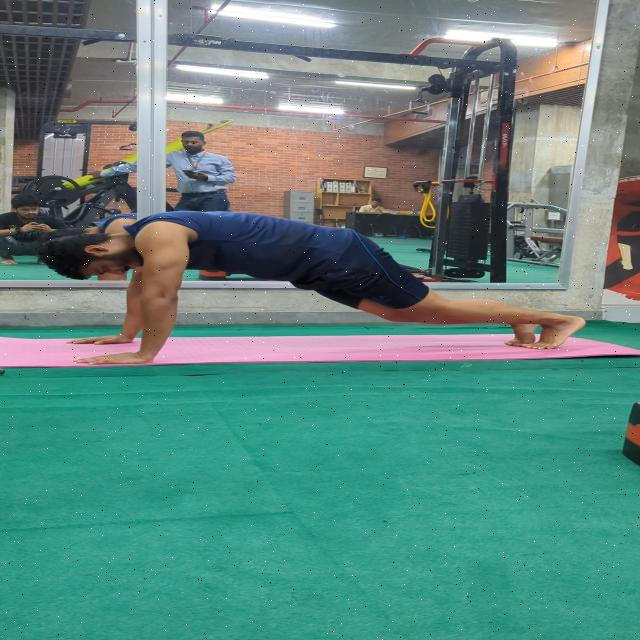Normal_MountainClimbers: (36, 208, 600, 363)
